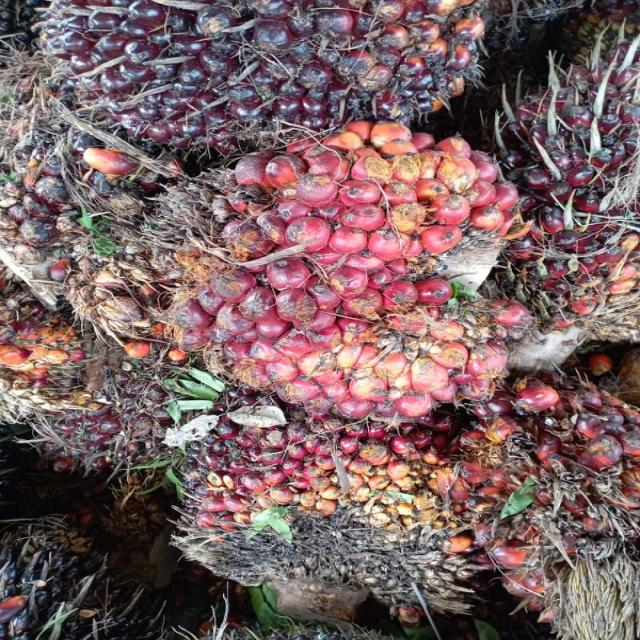fraksi 1: (120, 389, 512, 630)
fraksi 3: (114, 79, 593, 441)
